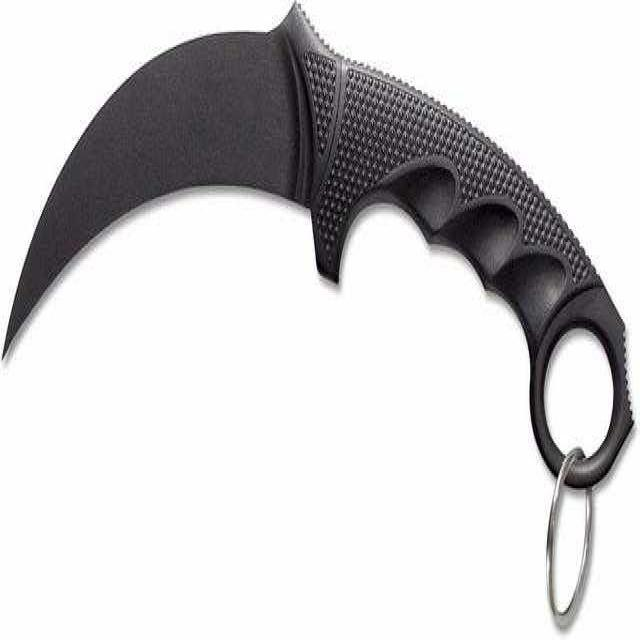Knife: (0, 1, 638, 500)
